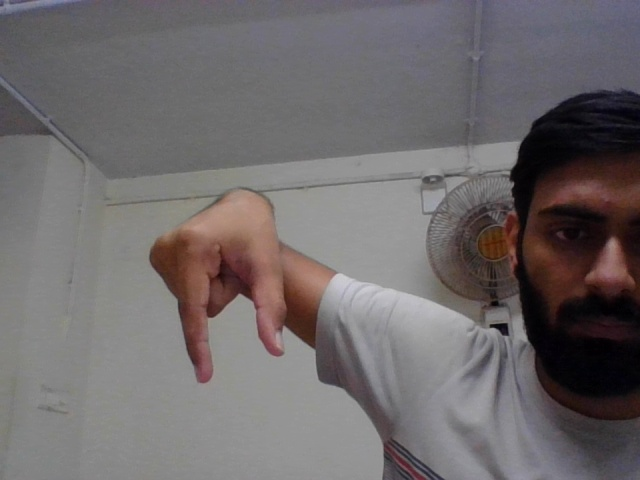Q: (144, 192, 296, 387)
